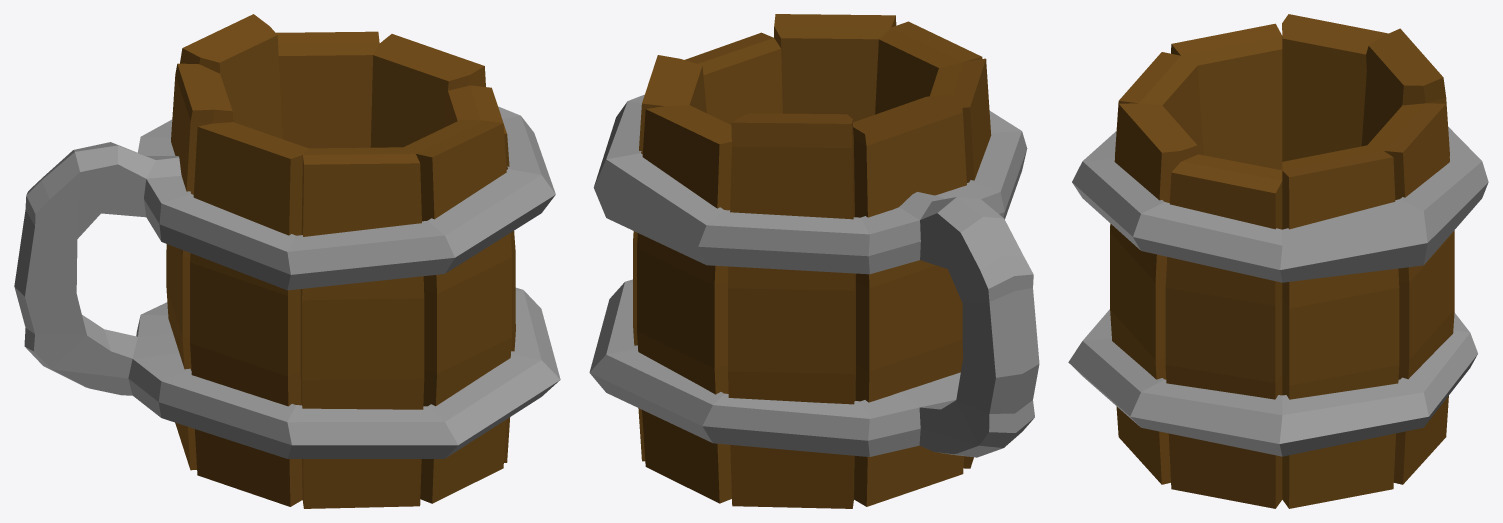
The model's file is BeerMug.fbx.
3 renders of one model, left to right at view 1: azimuth 30°, elevation 25°; view 2: azimuth 150°, elevation 25°; view 3: azimuth 270°, elevation 25°, orthographic. The views are drawn at different scales.
Visible parts, largest first — view 1: WoodenPart, MetalPart.001; view 2: WoodenPart, MetalPart.001; view 3: WoodenPart, MetalPart.001.
Boxes of the visible parts, <box> form: WoodenPart: <box>166,14,515,508</box>; MetalPart.001: <box>14,106,560,458</box>; WoodenPart: <box>633,14,991,508</box>; MetalPart.001: <box>589,94,1039,457</box>; WoodenPart: <box>1110,14,1454,508</box>; MetalPart.001: <box>1068,126,1488,456</box>.
Size of the model in its own units: 28.37 by 22.1 by 23.03.
